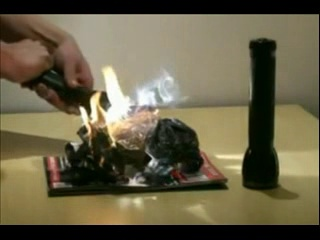fire: (78, 64, 126, 149)
smoke: (128, 67, 177, 108)
